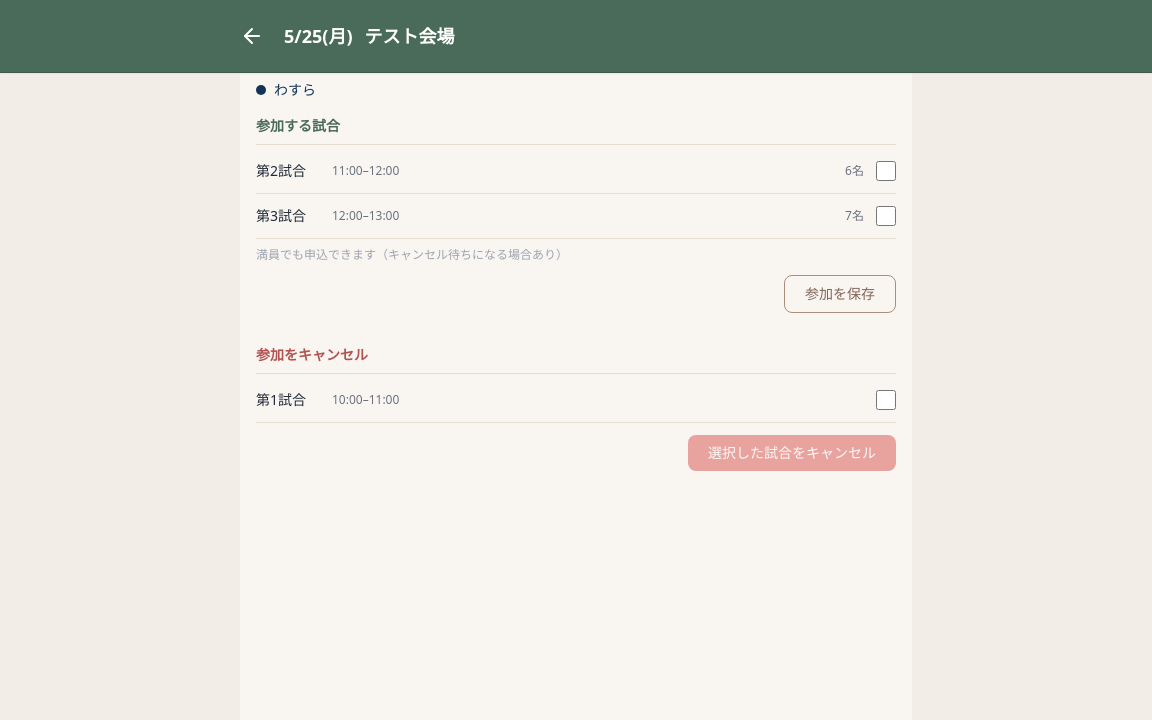
参加保存ペイロード（AC-3/AC-10） › 保存エラー時は overlay error を表示し状態を維持する（AC-9）
Expected: the heading "参加する試合" is shown, left=256, top=116, right=896, bottom=145
Click the checkbox named "第2試合に参加" at x=886, y=171, box left=876, top=161, right=896, bottom=181
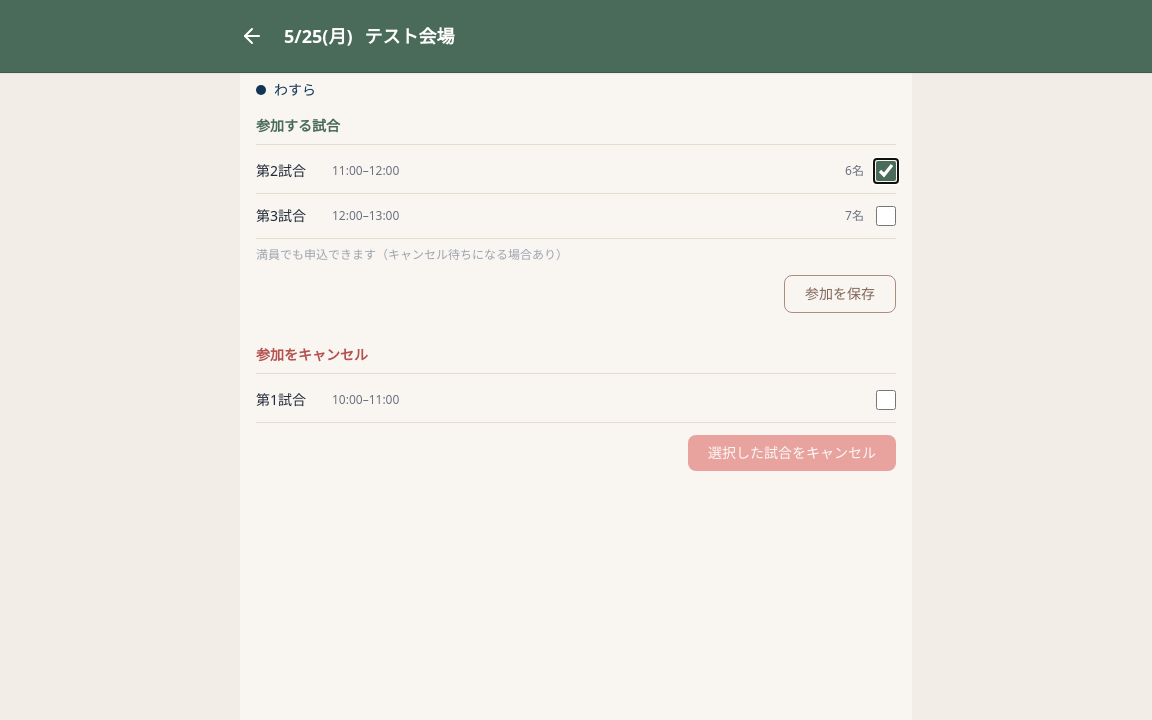
Click the button "参加を保存" at x=840, y=294, box left=784, top=275, right=896, bottom=313
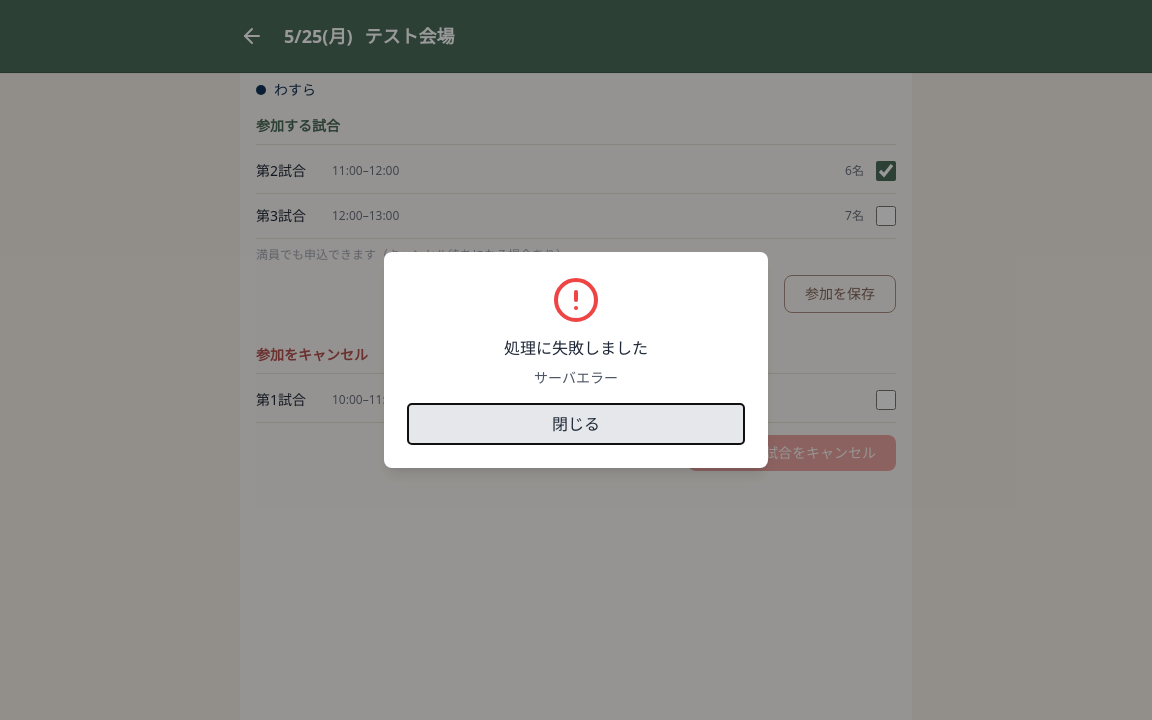
Expected: the text "処理に失敗しました" is shown, left=504, top=336, right=648, bottom=360
